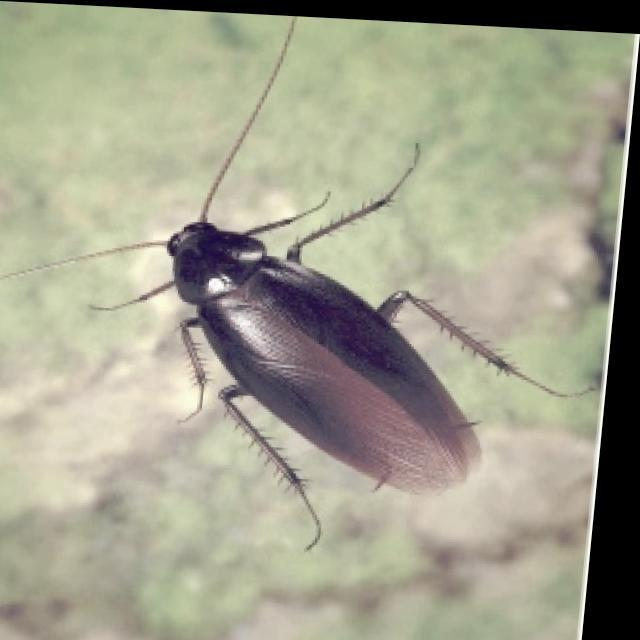cockroach: (3, 17, 600, 554)
